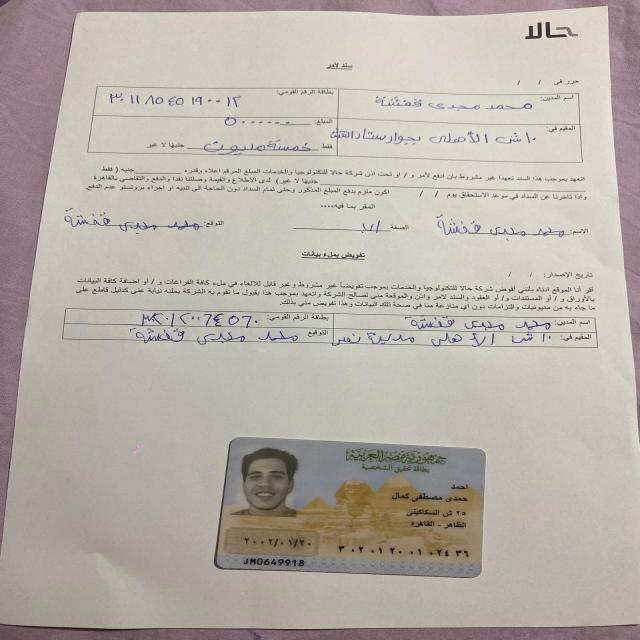ID-cards: (209, 433, 494, 585)
